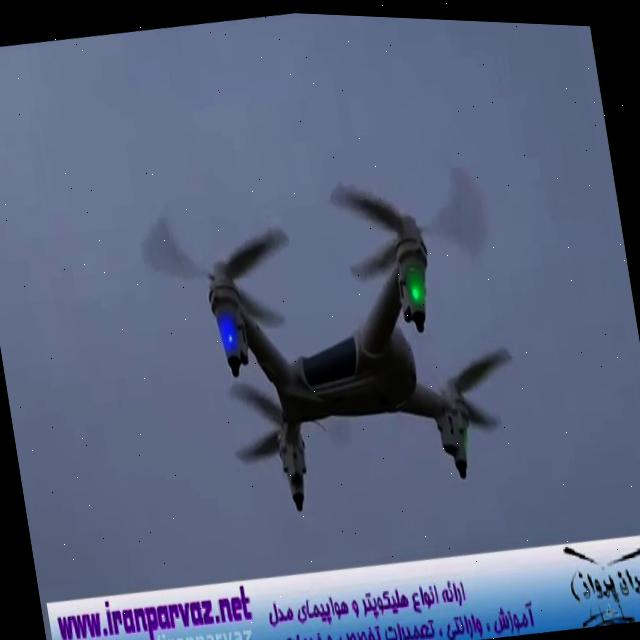drone: (126, 132, 540, 539)
